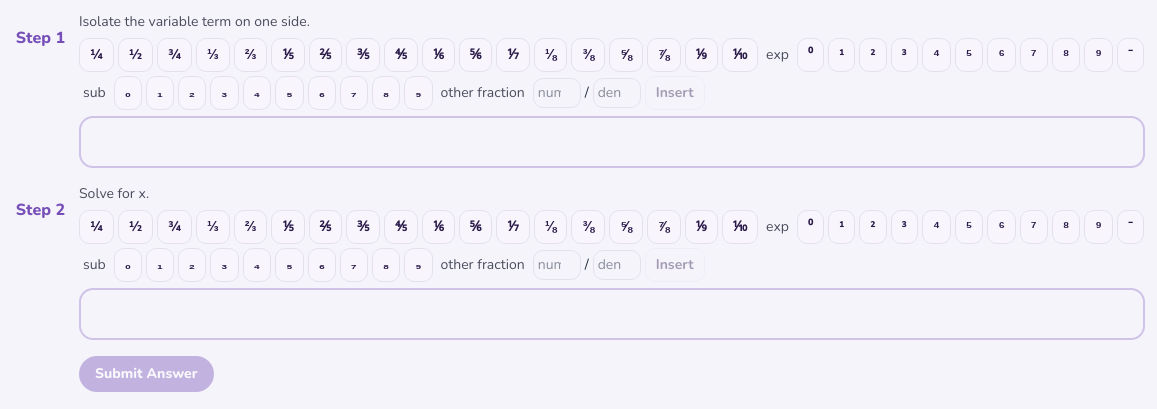
Test: MultiStepAnswerInput › disables submission until every step has non-whitespace content
Check: the button "Submit Answer" is disabled, box [79,356,214,392]
In the field with test id "multi-step-input-0": (612, 142) [79,116,1145,168], type "3x = 12"
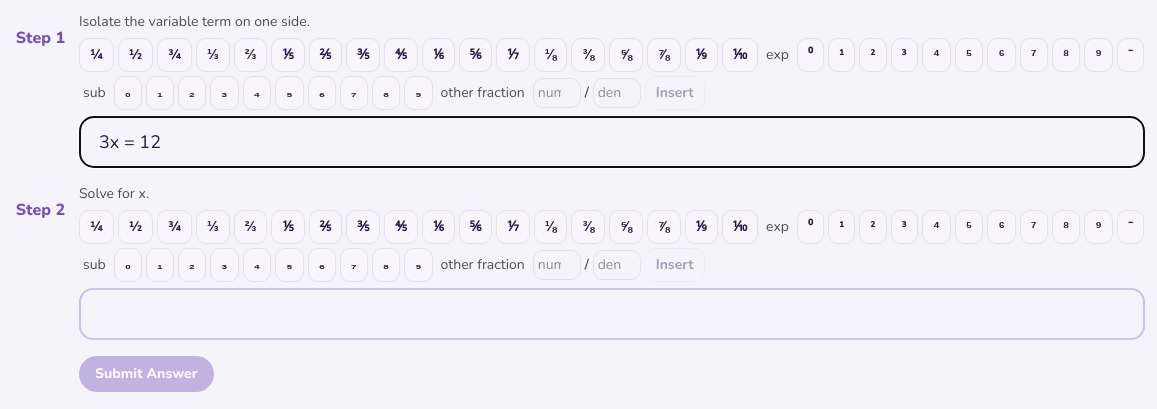
Check: the button "Submit Answer" is disabled, box [79,356,214,392]
In the field with test id "multi-step-input-1": (612, 314) [79,288,1145,340], type "x = 4"
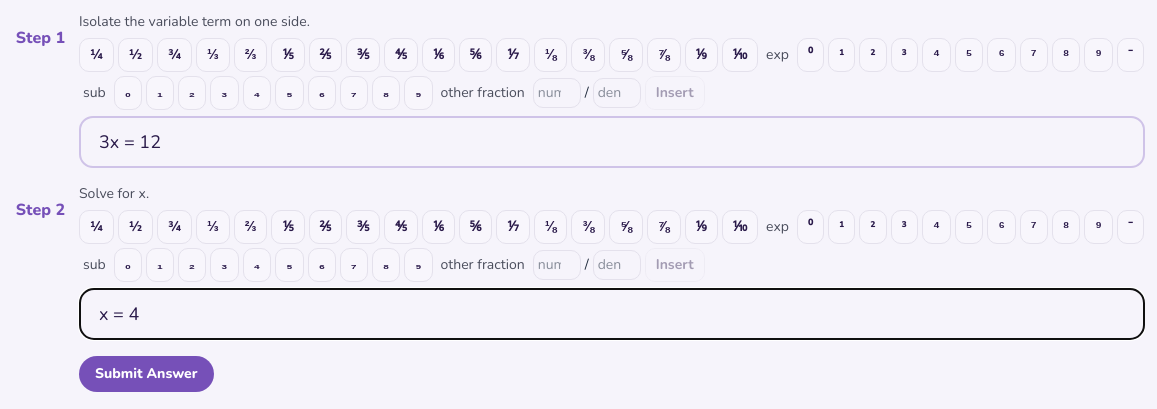
Check: the button "Submit Answer" is enabled, box [79,356,214,392]
